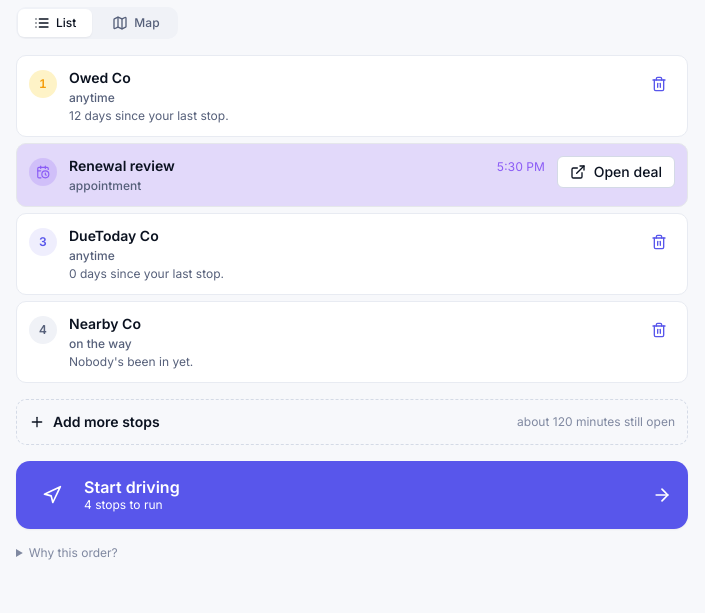
Test case: TodaysPathView › shows the one-sentence 'Why this order?' explanation on demand
Click the heading "Why this order?": (73, 552) [29,545,118,560]
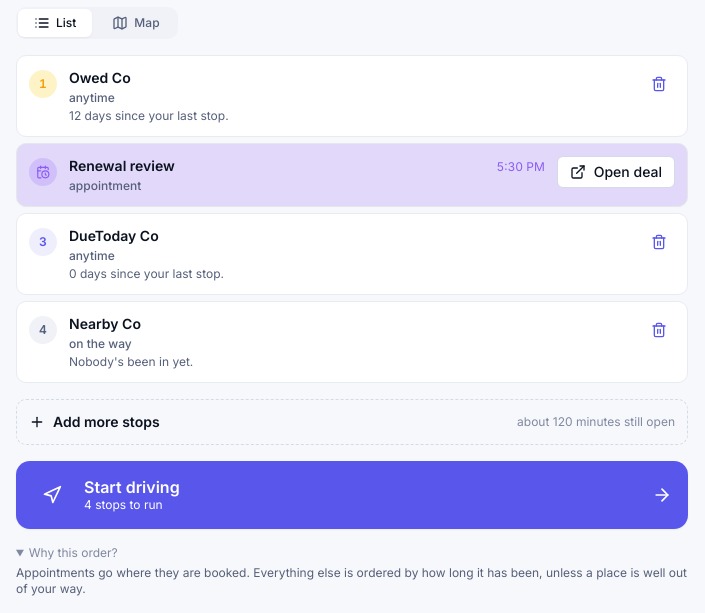
Result: the text "Appointments go where they are booked" is shown at [16,565,687,596]
